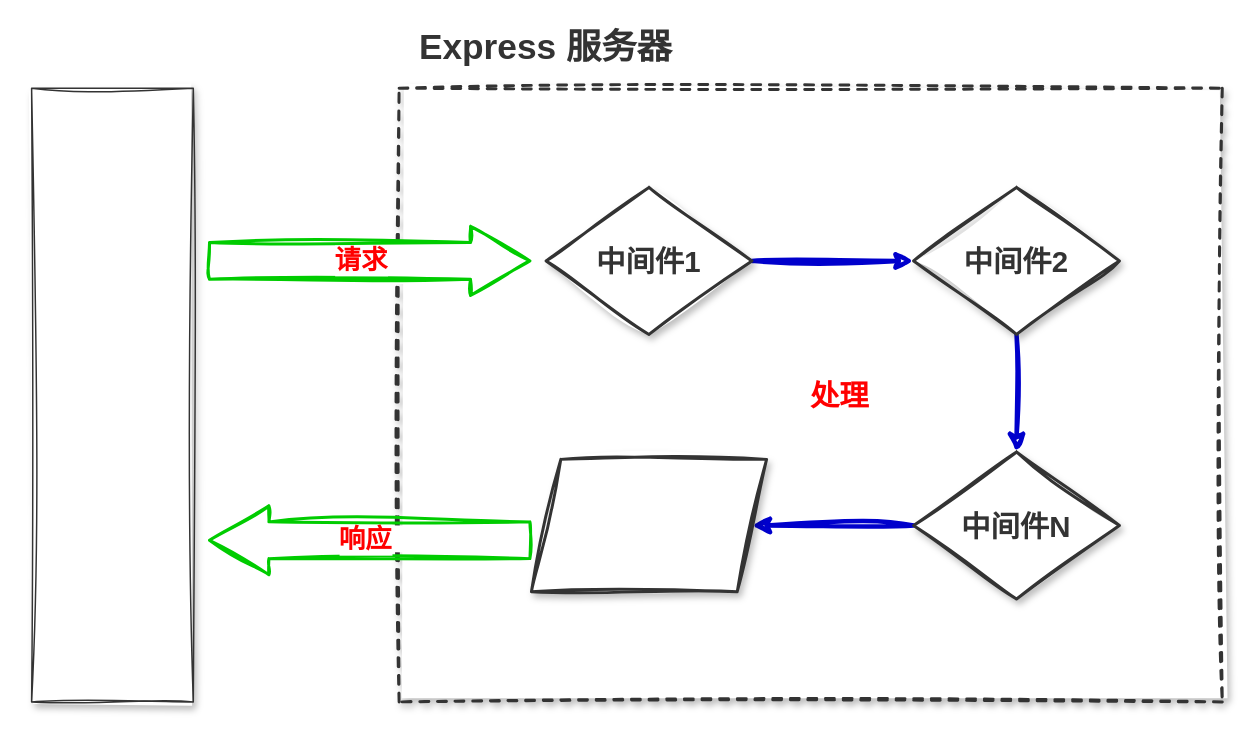
Some shapes in this 1258 by 738 pixel diagram are drawn without their labels. The centre of each missing label's shape, as x and y in pixels:
"处理完毕， 响应这次请求" goes at [649,527].
"客 户 端" goes at [113,396].
